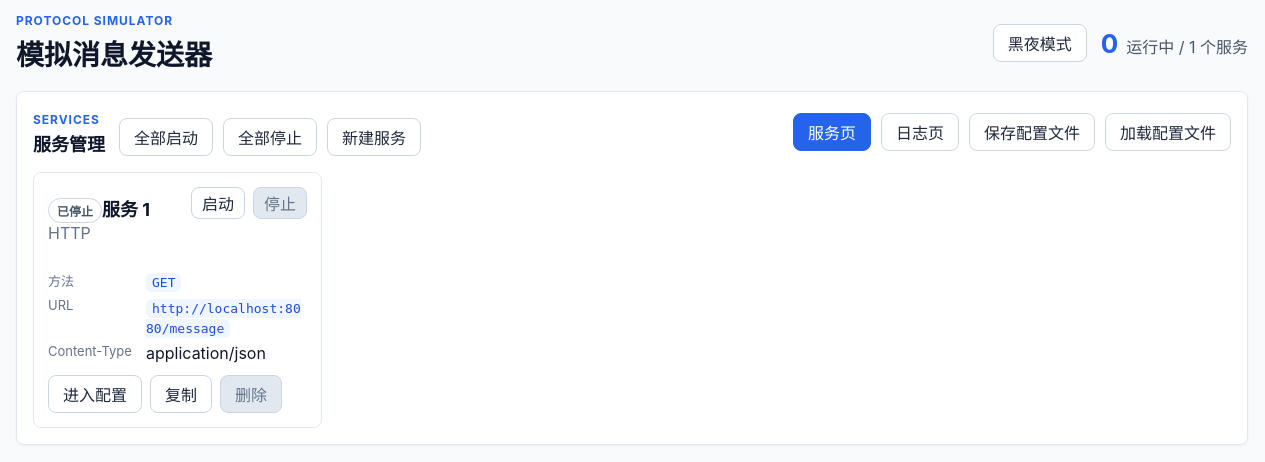
Scenario: runtime controls › switches logs into a dashboard page
Click the button "日志页".
click(920, 132)  # box x1=881 y1=113 x2=959 y2=151
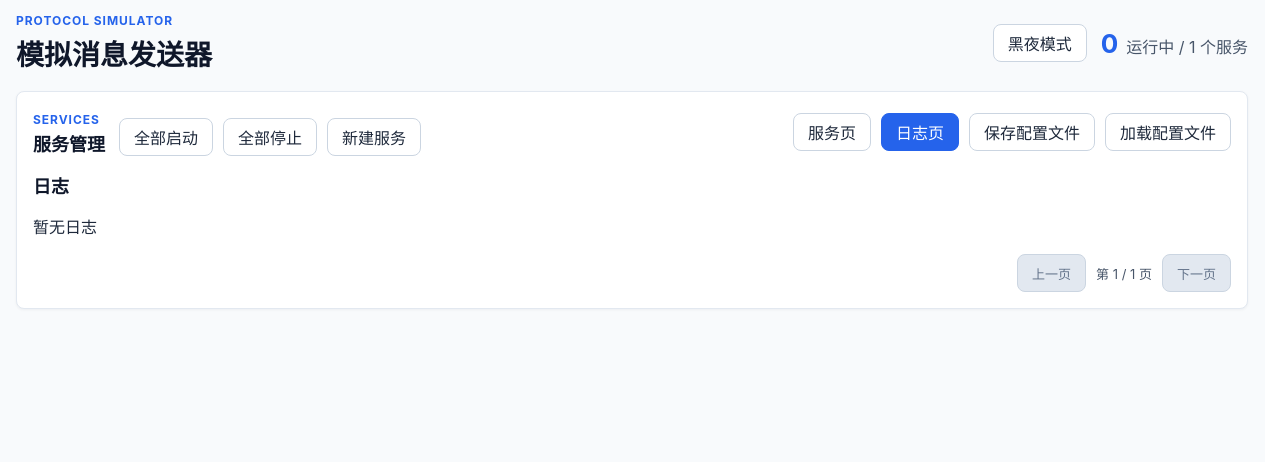
Expected: the button "服务页" is shown, x1=793 y1=113 x2=871 y2=151
Result: the element named "总服务日志页" is shown at x1=33 y1=172 x2=1231 y2=292
Result: the text "暂无日志" is shown at x1=33 y1=217 x2=97 y2=237
